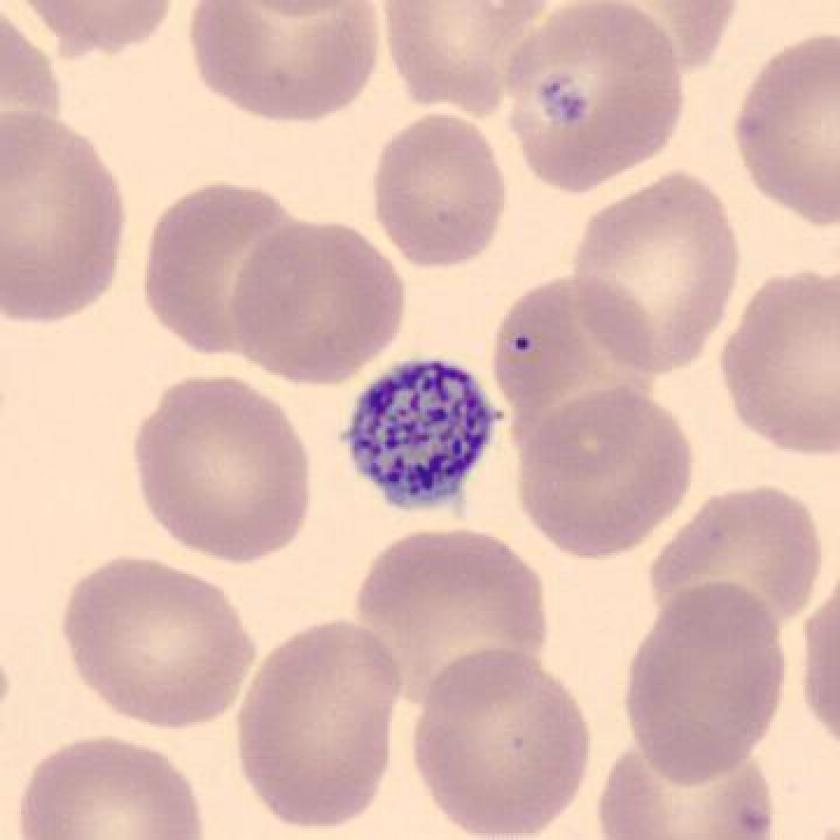platelets: (340, 353, 508, 524)
